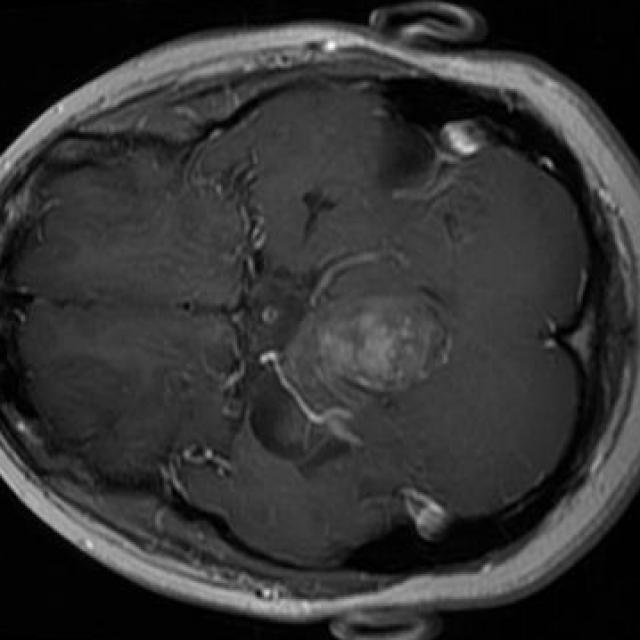glioma: (298, 299, 447, 392)
